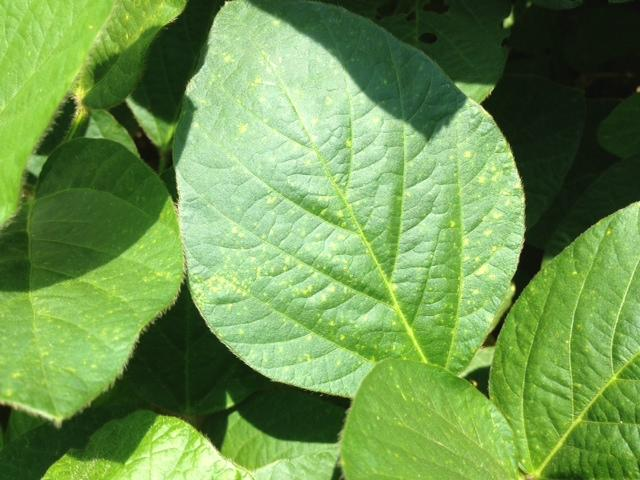Soyabean leaf: (170, 1, 531, 413), (1, 136, 186, 427)
